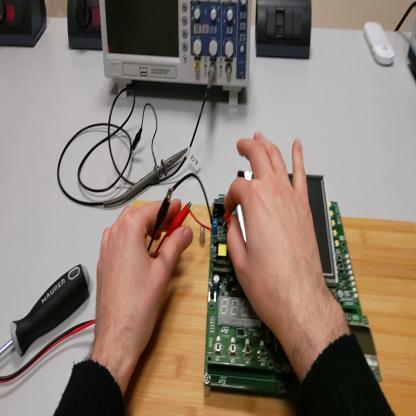hand: (223, 132, 326, 333), (92, 195, 192, 361)
low voltage board: (170, 172, 383, 400)
oscilloscope: (99, 1, 253, 99)
oscilloscope probe tip: (102, 147, 191, 207)
screwdriver-: (2, 260, 91, 360)
socket: (1, 2, 49, 48), (68, 1, 104, 52)
welder station: (408, 18, 416, 82)
working area: (125, 212, 416, 416)
